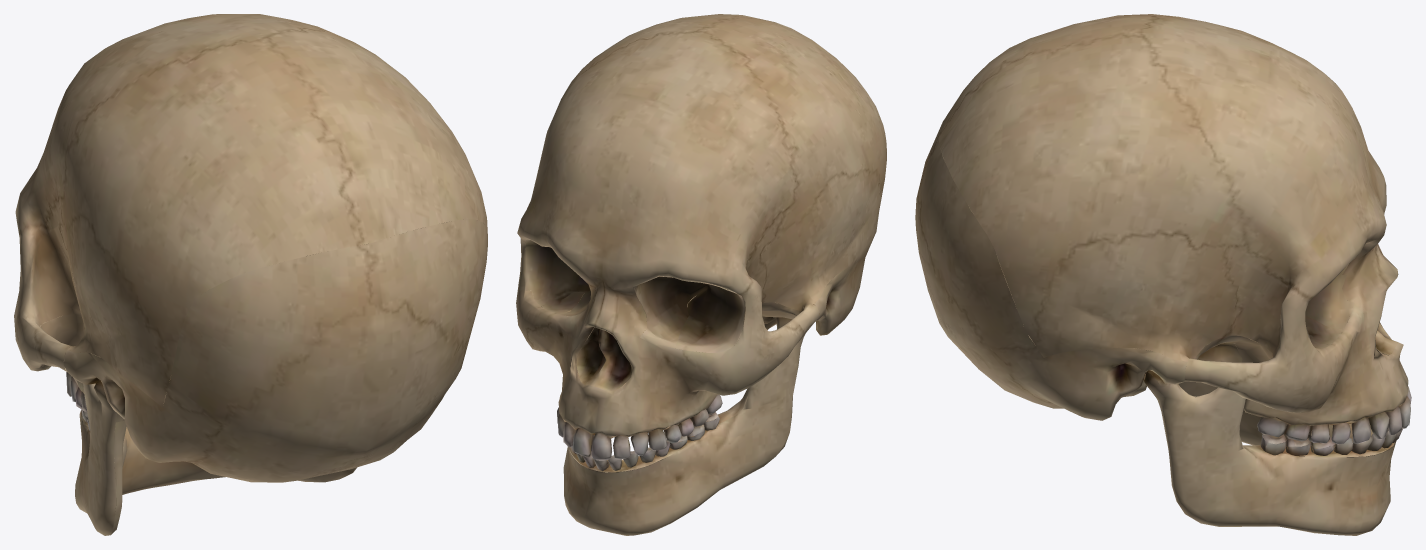
Rendered from x_huesos_human_skull.glb.
3 views of the same model, side by side, from view 1: azimuth 30°, elevation 25°; view 2: azimuth 150°, elevation 25°; view 3: azimuth 270°, elevation 25° (orthographic). The views are drawn at different scales.
Visible parts, largest first — view 1: defaultMaterial; view 2: defaultMaterial; view 3: defaultMaterial.
Part boxes in pixels (x1,y1,x2,y2): defaultMaterial: (14,14,487,535); defaultMaterial: (516,14,886,535); defaultMaterial: (915,14,1411,535).
Bounding box in the file's own units: 0.1485 × 0.22 × 0.203.
Materials: 1 (1 with a texture image).
